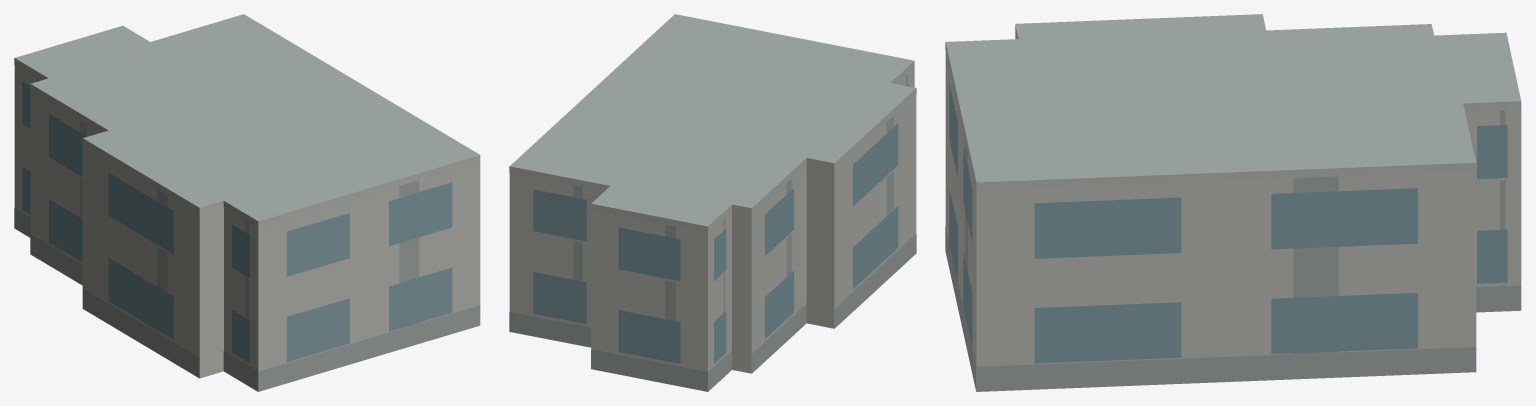
File: residential-d2461491-4a84-4995-88d8-ded524af2eac.glb
The picture shows the model from 3 angles, left to right: view 1: azimuth 30°, elevation 25°; view 2: azimuth 150°, elevation 25°; view 3: azimuth 270°, elevation 25°; orthographic projection. The views are drawn at different scales.
Visible parts, largest first — view 1: residential-d2461491-4a84-4995-88d8-ded524af2eac.tmp; view 2: residential-d2461491-4a84-4995-88d8-ded524af2eac.tmp; view 3: residential-d2461491-4a84-4995-88d8-ded524af2eac.tmp.
Boxes of the visible parts, x1,y1,x2,y2 form: residential-d2461491-4a84-4995-88d8-ded524af2eac.tmp: (14, 14, 480, 391); residential-d2461491-4a84-4995-88d8-ded524af2eac.tmp: (509, 14, 916, 391); residential-d2461491-4a84-4995-88d8-ded524af2eac.tmp: (945, 14, 1521, 391).
Size of the model in its own units: 10.53 by 6.1 by 15.21.
